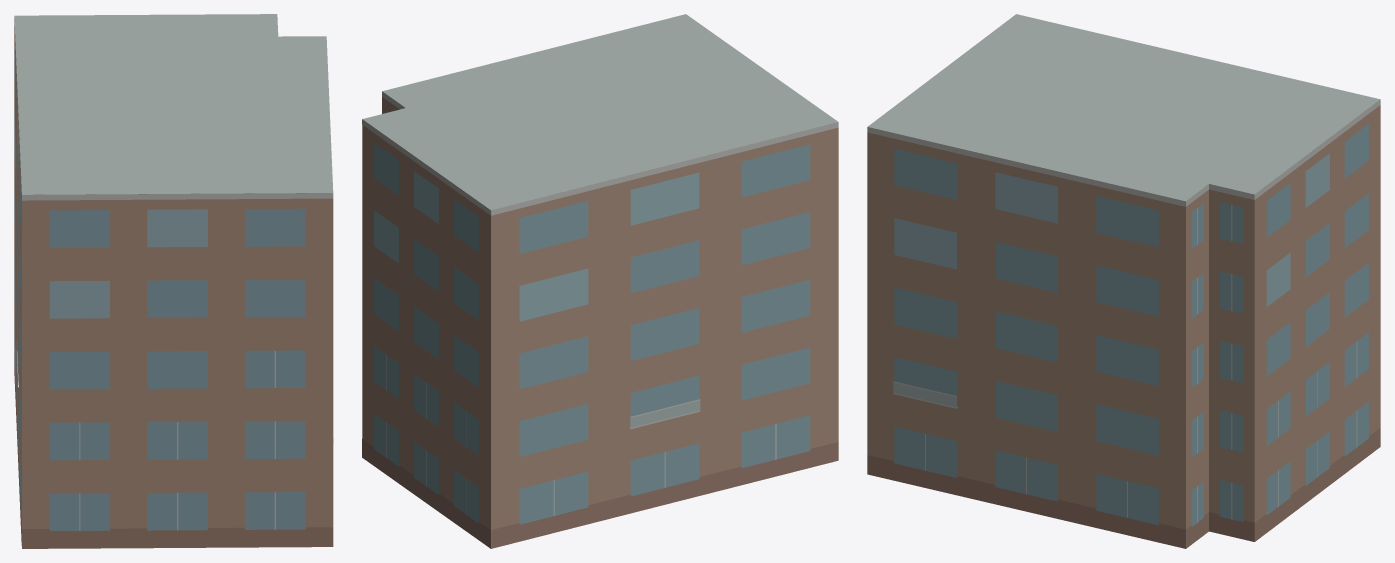
Rendered from survey-upis-32870631.glb.
3 renders of one model, left to right at view 1: azimuth 30°, elevation 25°; view 2: azimuth 150°, elevation 25°; view 3: azimuth 270°, elevation 25°, orthographic. The views are drawn at different scales.
Visible parts, largest first — view 1: survey-upis-32870631.tmp; view 2: survey-upis-32870631.tmp; view 3: survey-upis-32870631.tmp.
Boxes of the visible parts, x1,y1,x2,y2 form: survey-upis-32870631.tmp: (14,14,333,548); survey-upis-32870631.tmp: (362,14,838,548); survey-upis-32870631.tmp: (867,14,1380,548).
Size of the model in its own units: 17.64 by 15.25 by 20.42.
